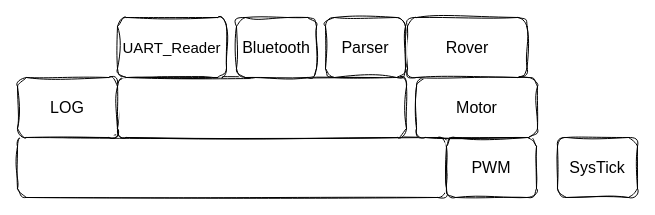
This 655x215 diagram has some shape labels left out. Here are the shapes that lost their labels. From the top down, the centre of each, then its label:
At [261,107]: "UART".
At [231,167]: "GPIO".
